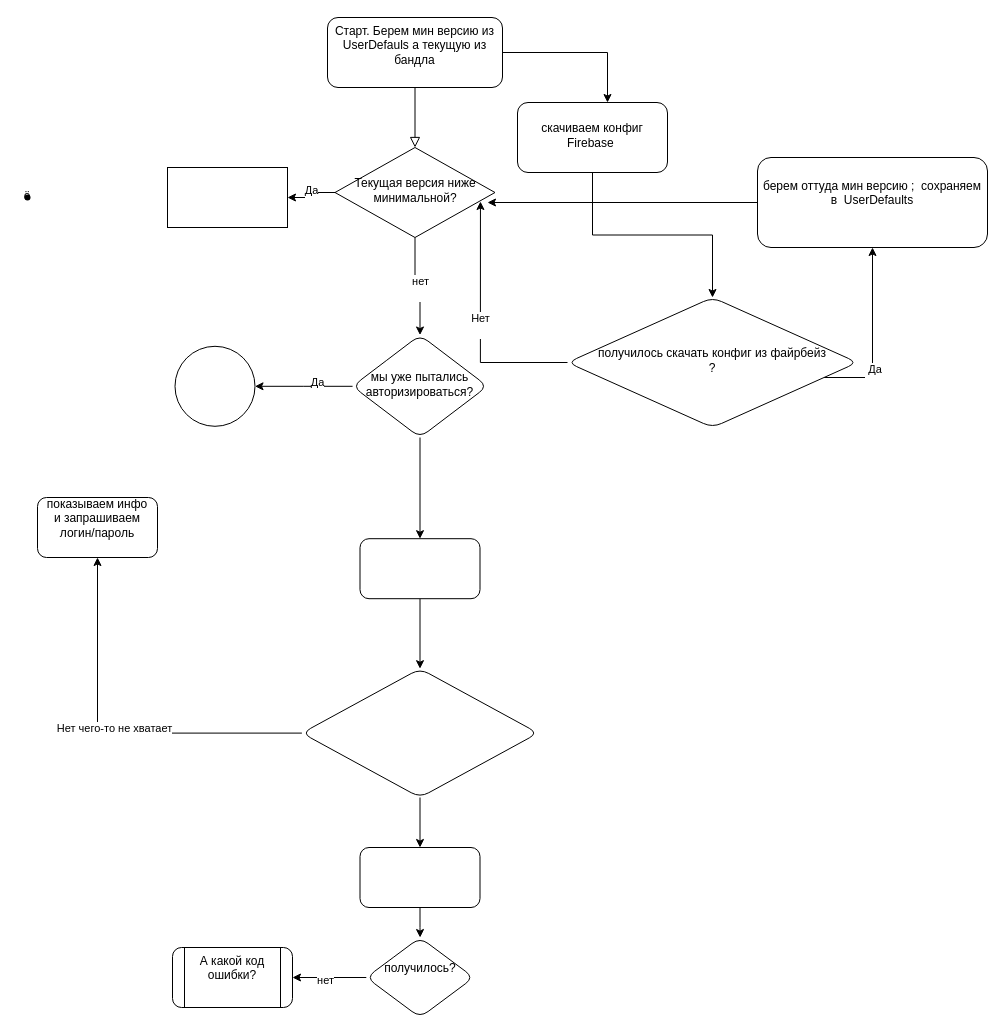
The diagram is 1005 pixels wide and 1035 high, and some of its shapes have lost their labels. The box of each missing label's shape, as (x1, y1, x2, y2) in pixels:
просим обновиться: (166, 166, 288, 228)
пытаемся авторизоваться: (359, 846, 480, 908)
ставим флажок что пытались авторизоваться: (359, 538, 480, 599)
тогда ничего не делаем: (174, 345, 255, 426)
у нас в UserDefaults есть ид-р пользователя и токен?: (301, 668, 538, 798)
